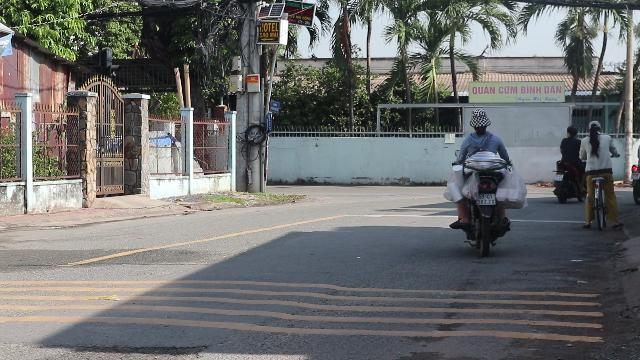licenseplate: (476, 194, 496, 204)
motorcyclist: (442, 108, 520, 254)
nohelmet: (468, 108, 490, 132)
